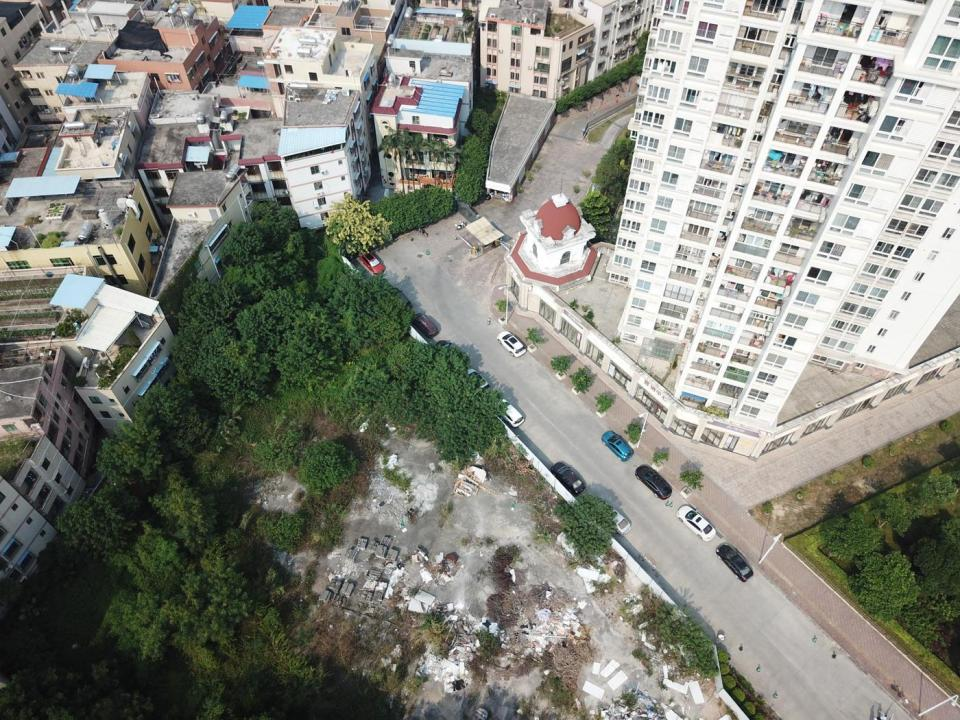car: (676, 505, 717, 541), (716, 543, 753, 582), (635, 465, 674, 500), (597, 502, 631, 536), (550, 462, 586, 494), (601, 430, 634, 461), (494, 398, 524, 428), (497, 331, 526, 357), (434, 340, 463, 366), (387, 287, 413, 315), (464, 368, 490, 394), (359, 251, 385, 274)
van: (411, 313, 439, 338)
